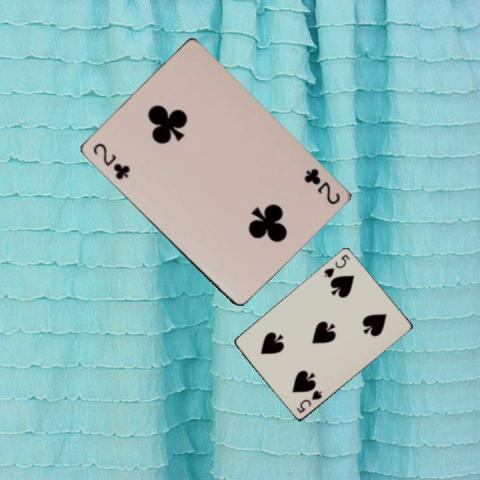2c: (90, 140, 132, 181), (300, 165, 341, 206)
5s: (321, 251, 351, 279), (294, 387, 324, 414)
